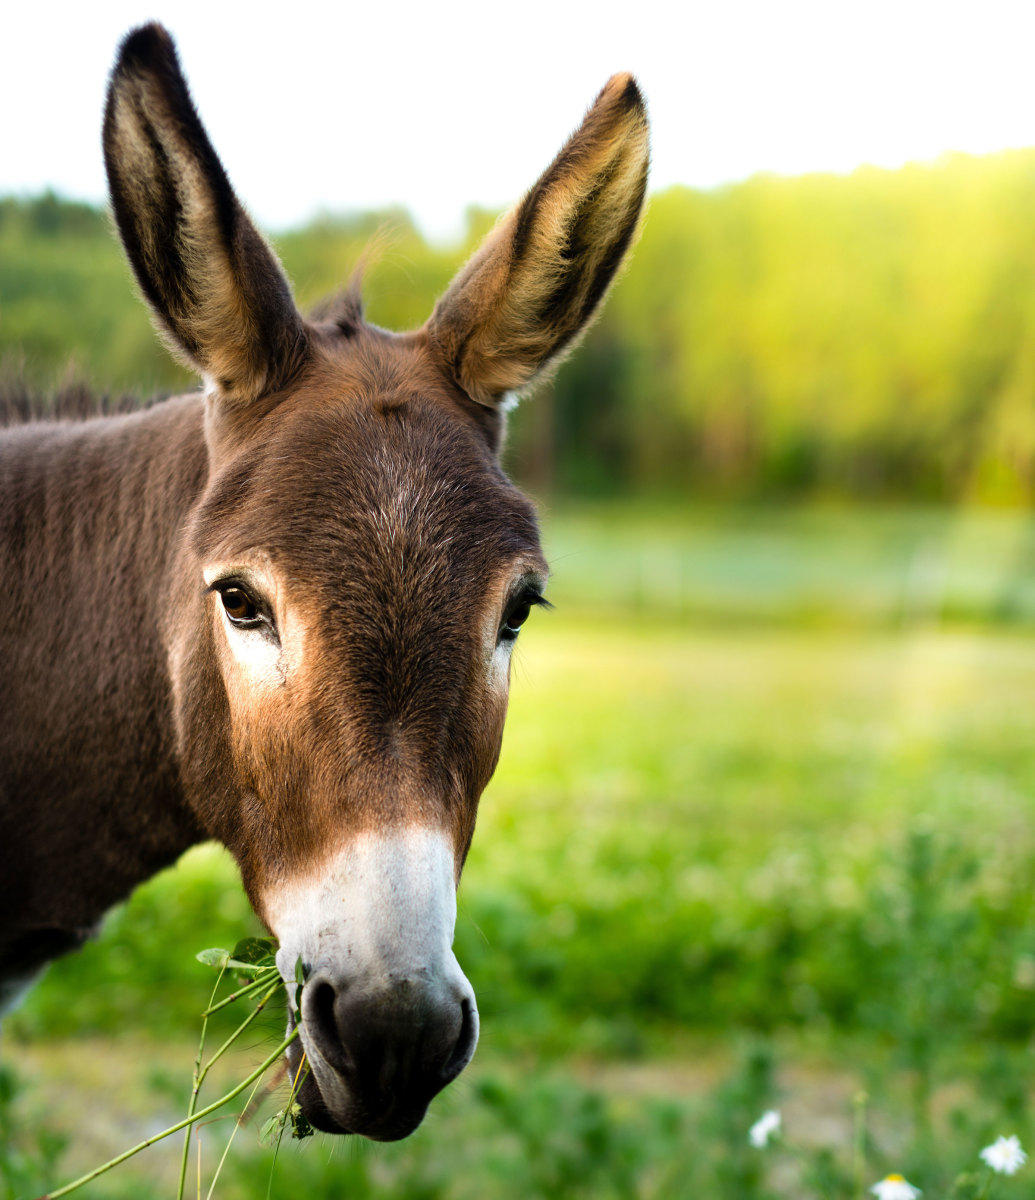donkey: (1, 24, 660, 1139)
